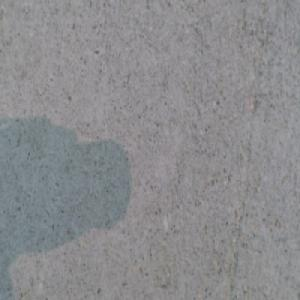Washer: (159, 290, 182, 299)
